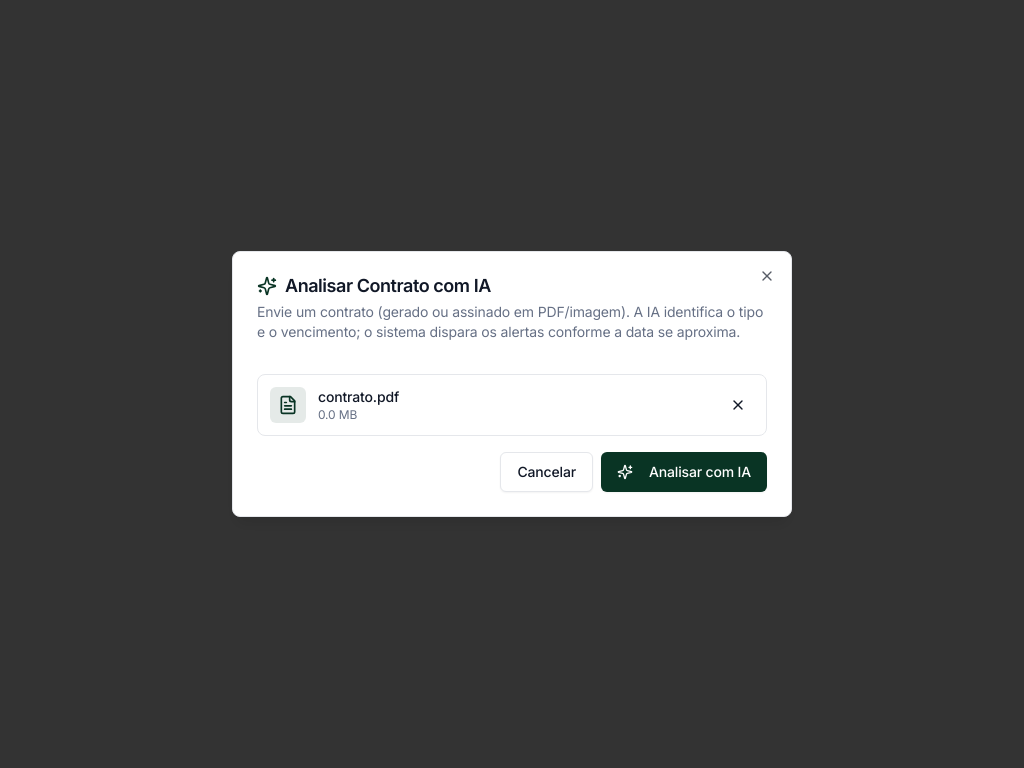
Test case: acha a parte pelo primeiro telefone do contrato e vincula sem criar outro cliente
Earlier steps of the test are not shown.
Later steps or results of the test are not shown.
Click the button "Analisar com IA" at (684, 472), box [601,452,767,492]
(page scrolled)
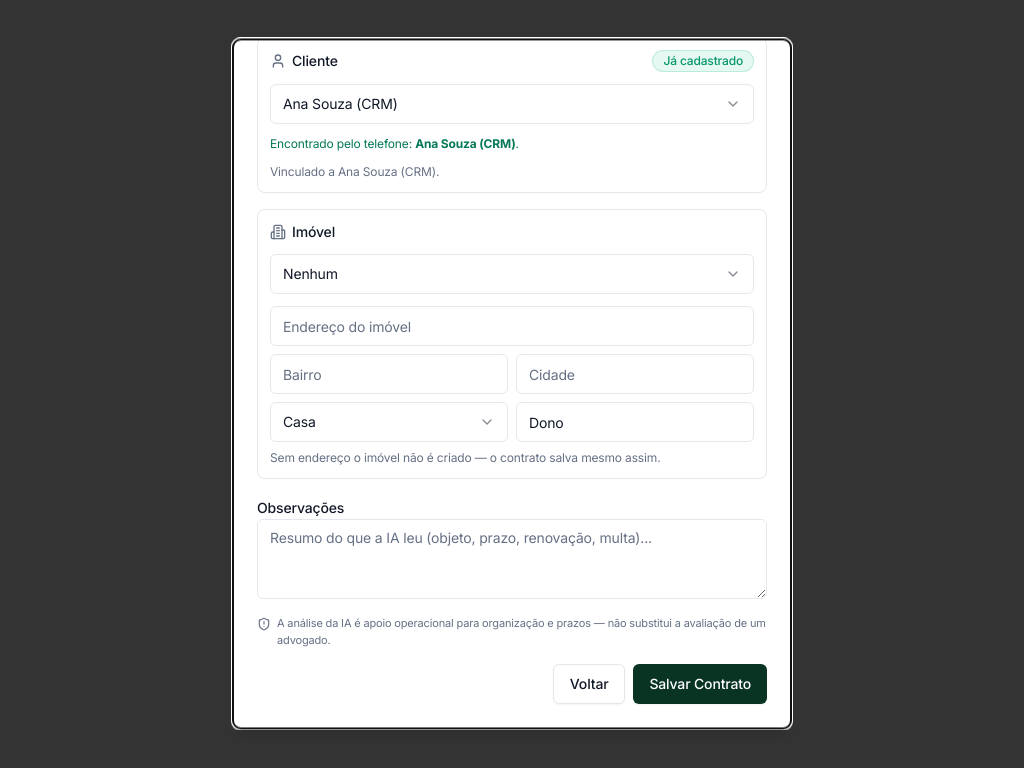
Expected: the text "Encontrado pelo telefone: Ana Souza (CRM)." is shown, [270,136,519,151]
